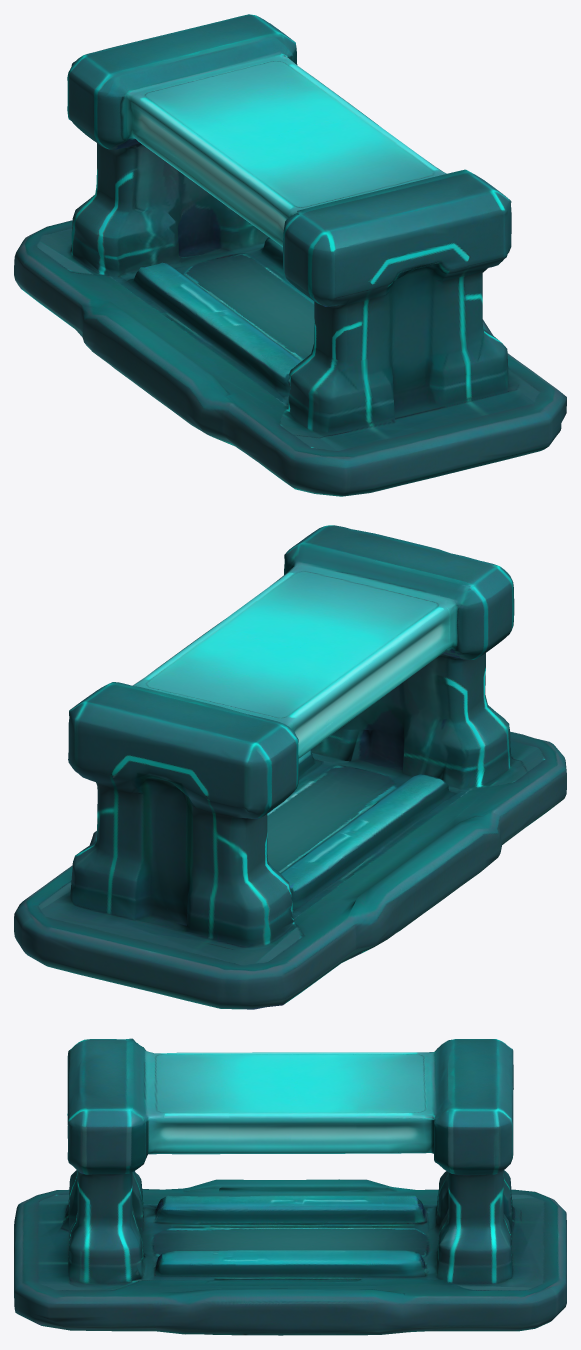
The model's file is grind.glb.
3 views of the same model, one above another, from view 1: azimuth 30°, elevation 25°; view 2: azimuth 150°, elevation 25°; view 3: azimuth 270°, elevation 25° (orthographic). The views are drawn at different scales.
Size of the model in its own units: 1.06 by 0.8139 by 2.
Materials: 1 (1 with a texture image).
